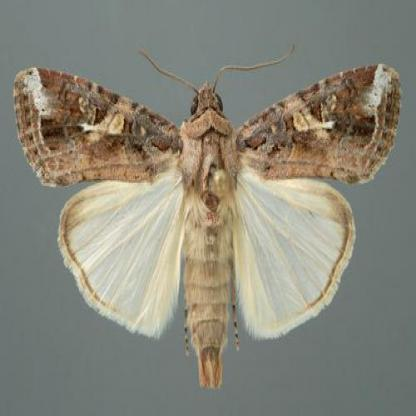armyworm: (17, 45, 404, 416)
